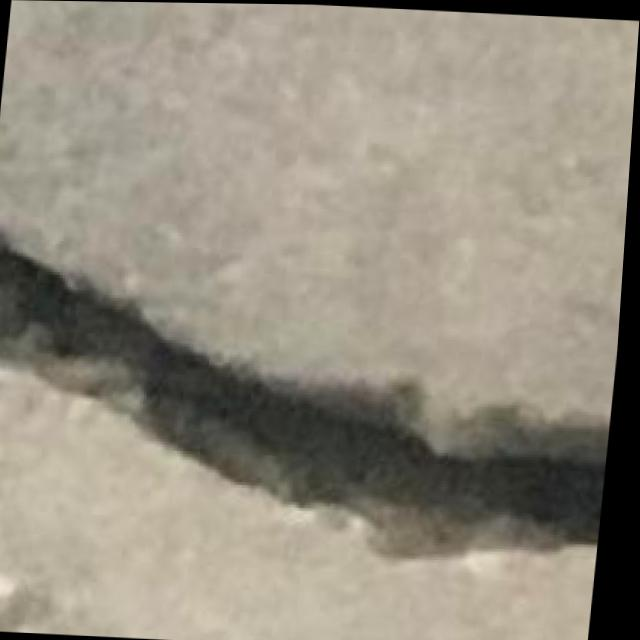Crack: (0, 225, 616, 589)
